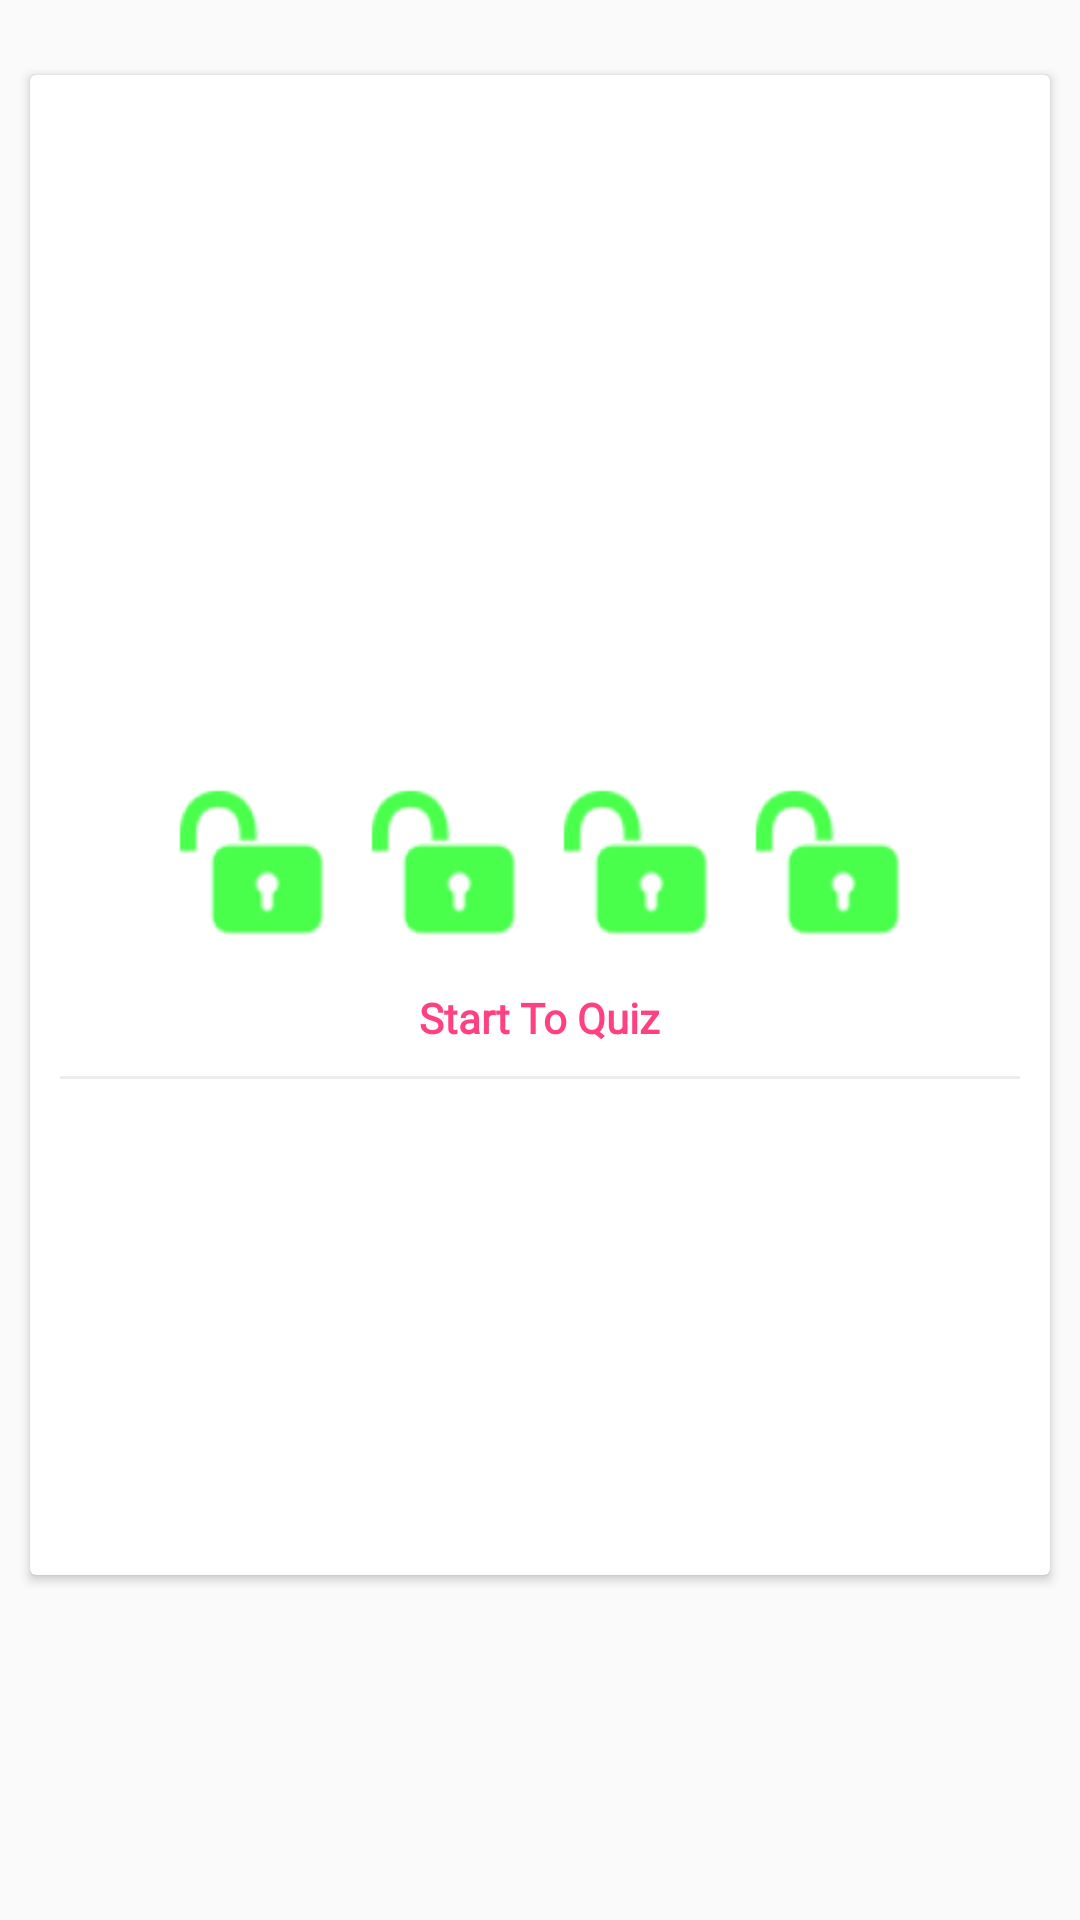

Named icons in this screenshot (1080 x 1920) and their bounding boxes, BBox(x1, y1, x2, y2):
unlock: BBox(179, 790, 324, 935), BBox(371, 790, 516, 935), BBox(563, 790, 708, 935), BBox(755, 790, 900, 935)
